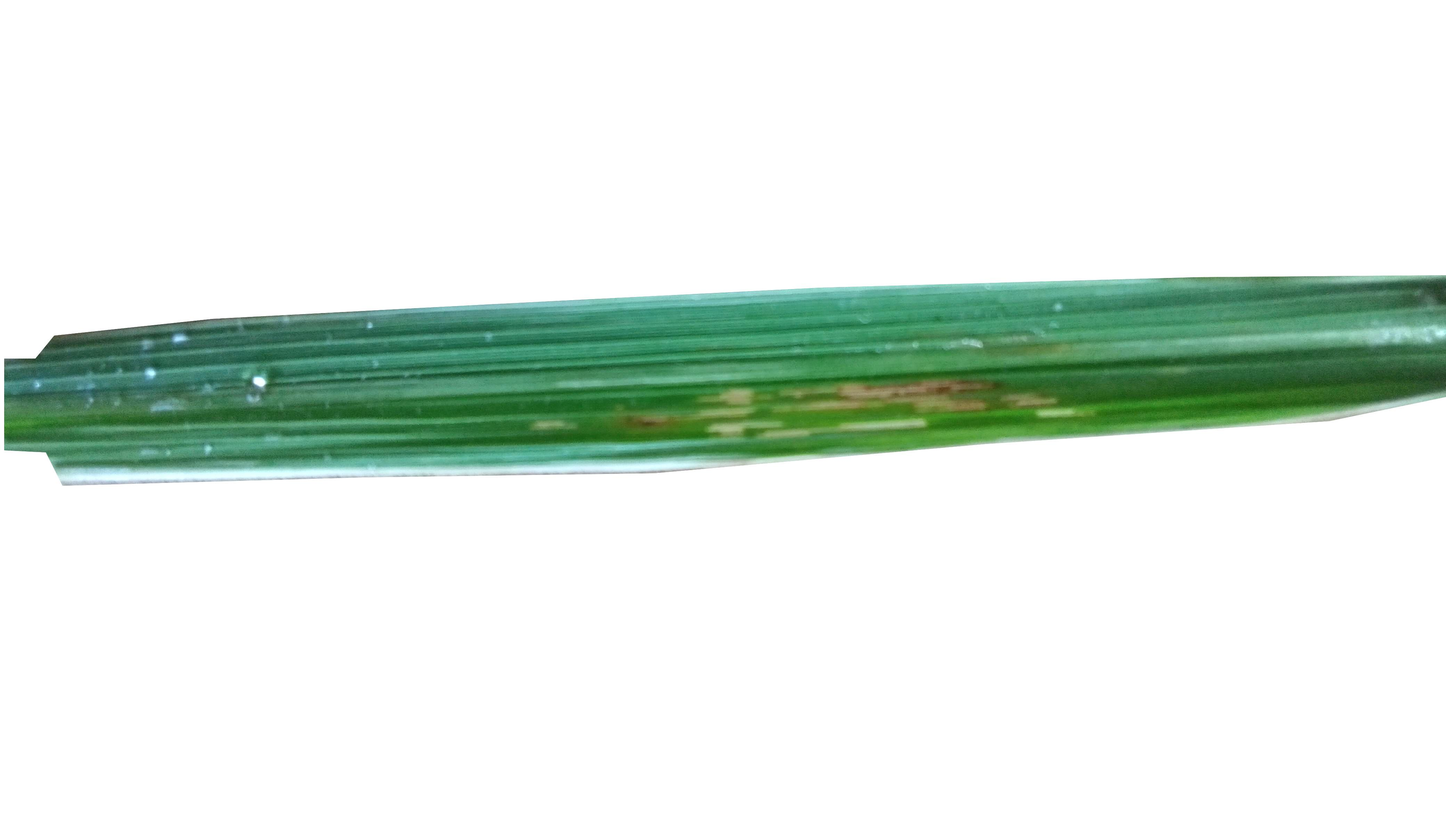Blight: (831, 360, 1076, 420), (711, 367, 787, 452), (614, 384, 695, 450)
